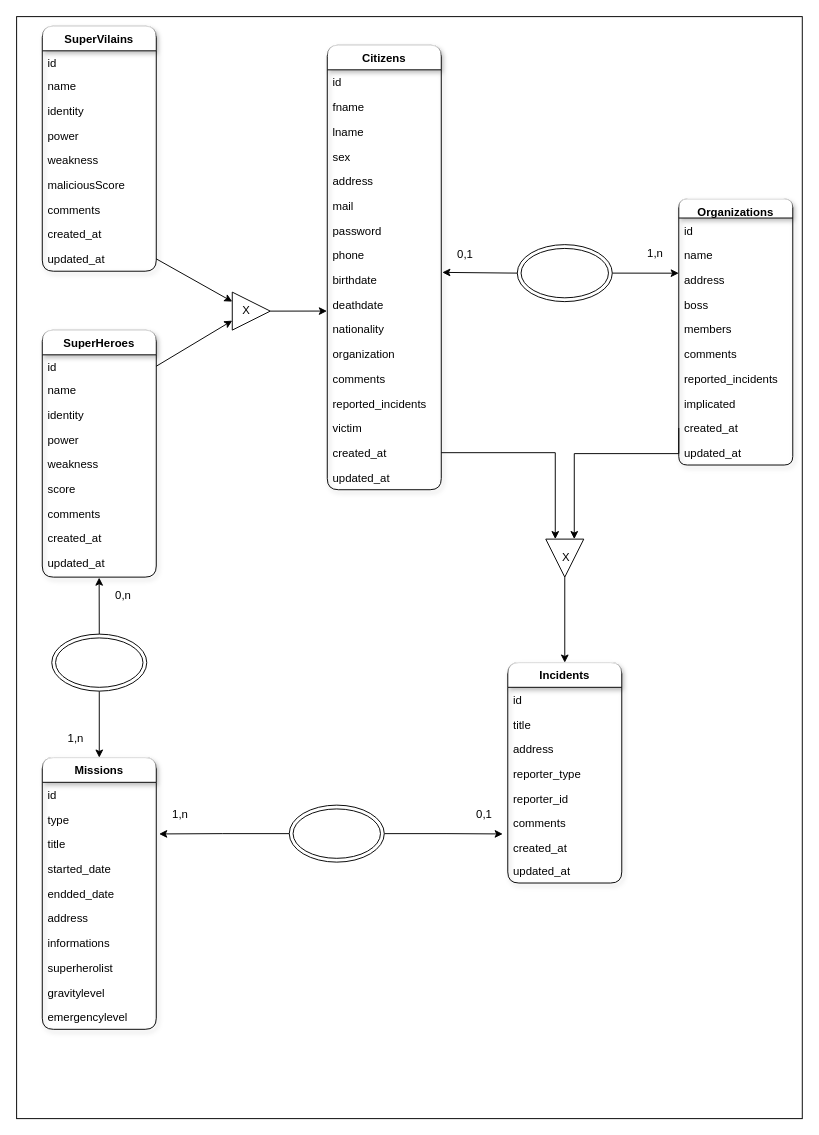
Some shapes in this 819 by 1135 pixel diagram are drawn without their labels. Each missing label, with the centre of its shape:
Appartenir: the point at 564,273
Intervenir: the point at 99,662
Ëtre lié: the point at 336,833
